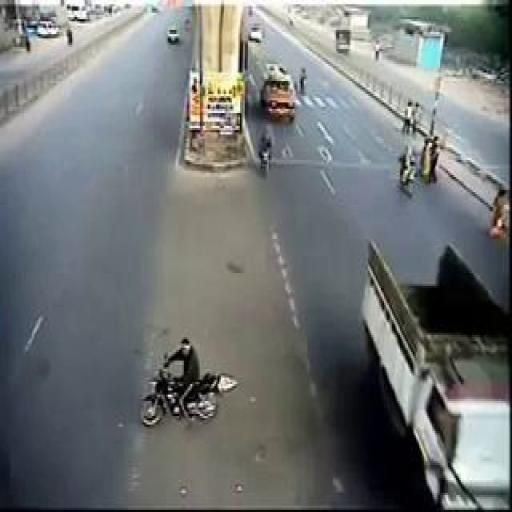Motor: (144, 311, 238, 439)
